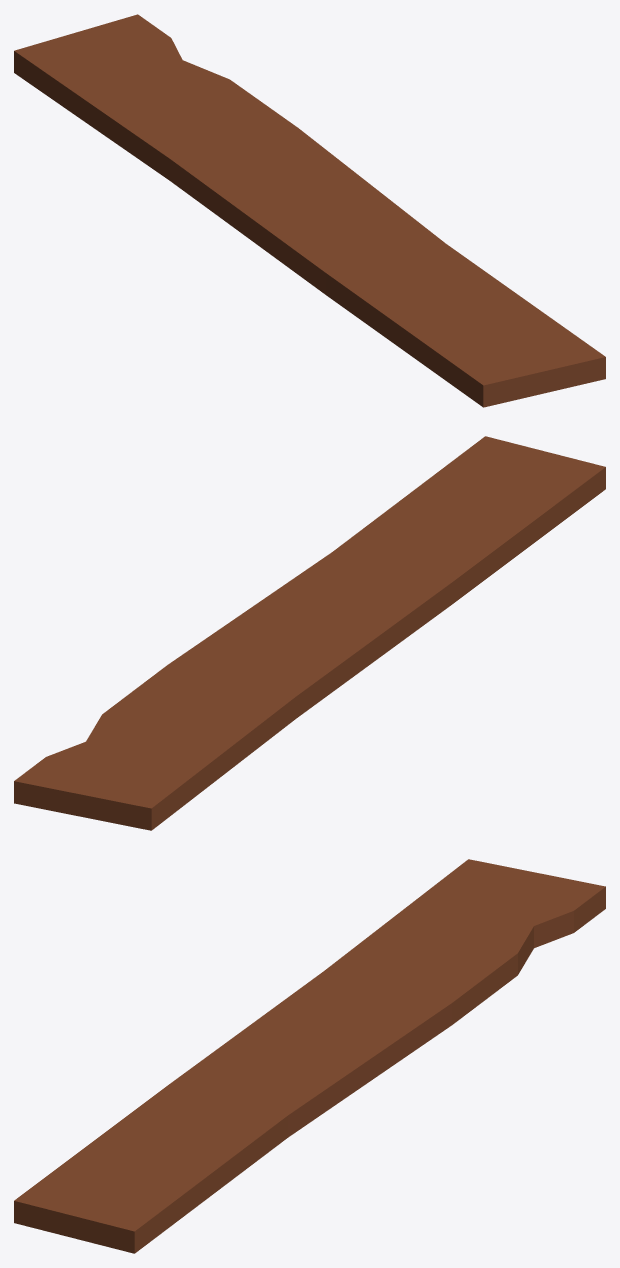
The model's file is LP_PostApoc_Plank3.fbx.
3 views of the same model, one above another, from view 1: azimuth 30°, elevation 25°; view 2: azimuth 150°, elevation 25°; view 3: azimuth 330°, elevation 25° (orthographic).
Visible parts, largest first — view 1: Plank3; view 2: Plank3; view 3: Plank3.
Boxes of the visible parts, x1=… form: Plank3: x1=14, y1=14, x2=605, y2=407; Plank3: x1=14, y1=436, x2=605, y2=830; Plank3: x1=14, y1=859, x2=605, y2=1253.
Size of the model in its own units: 33.1 by 5.21 by 200.
